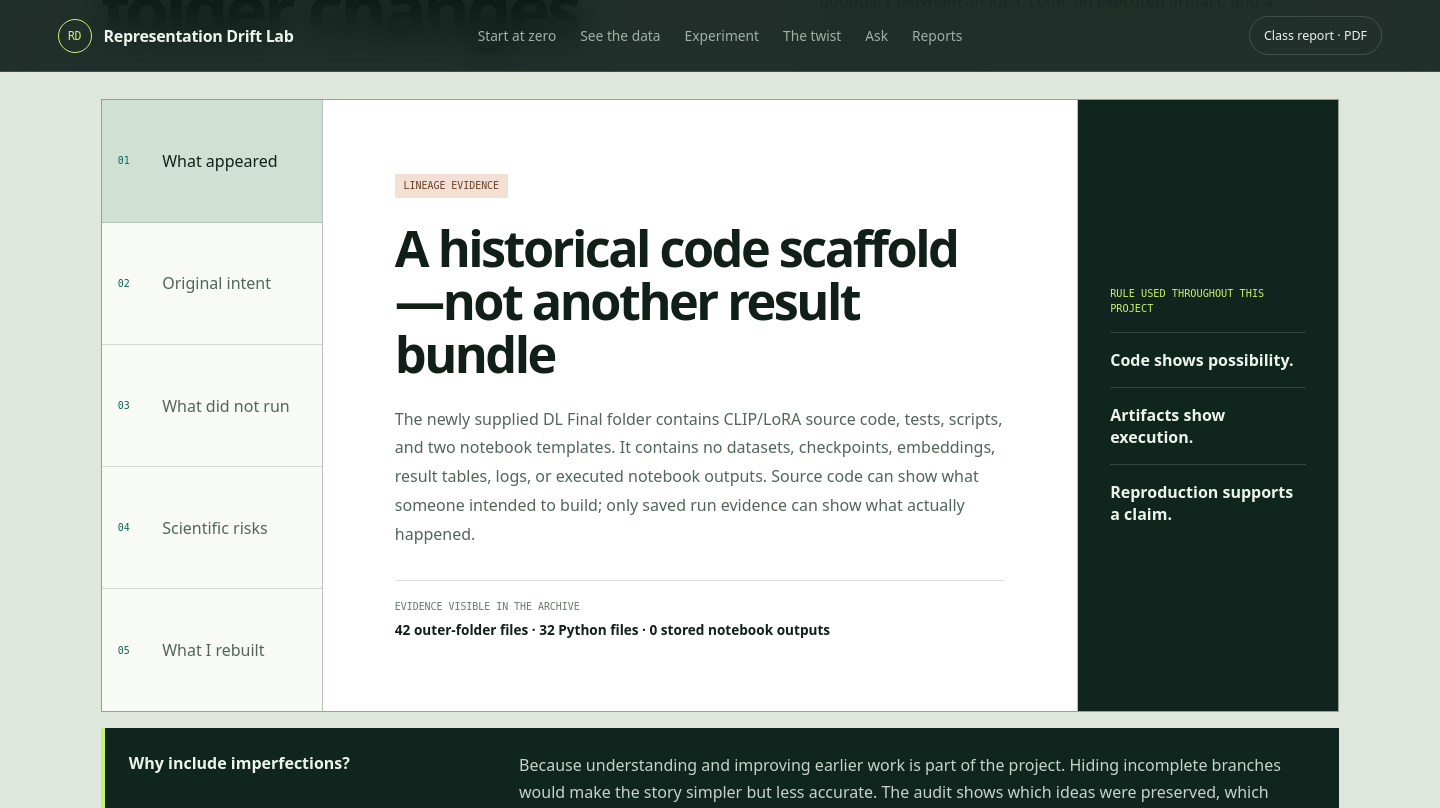
Test case: portfolio visitor flow › explains the recovered source scaffold without presenting it as new results
(page scrolled)
Click the tab "03 What did not run" at x=212, y=406, box [102,345,322,467]
(page scrolled)
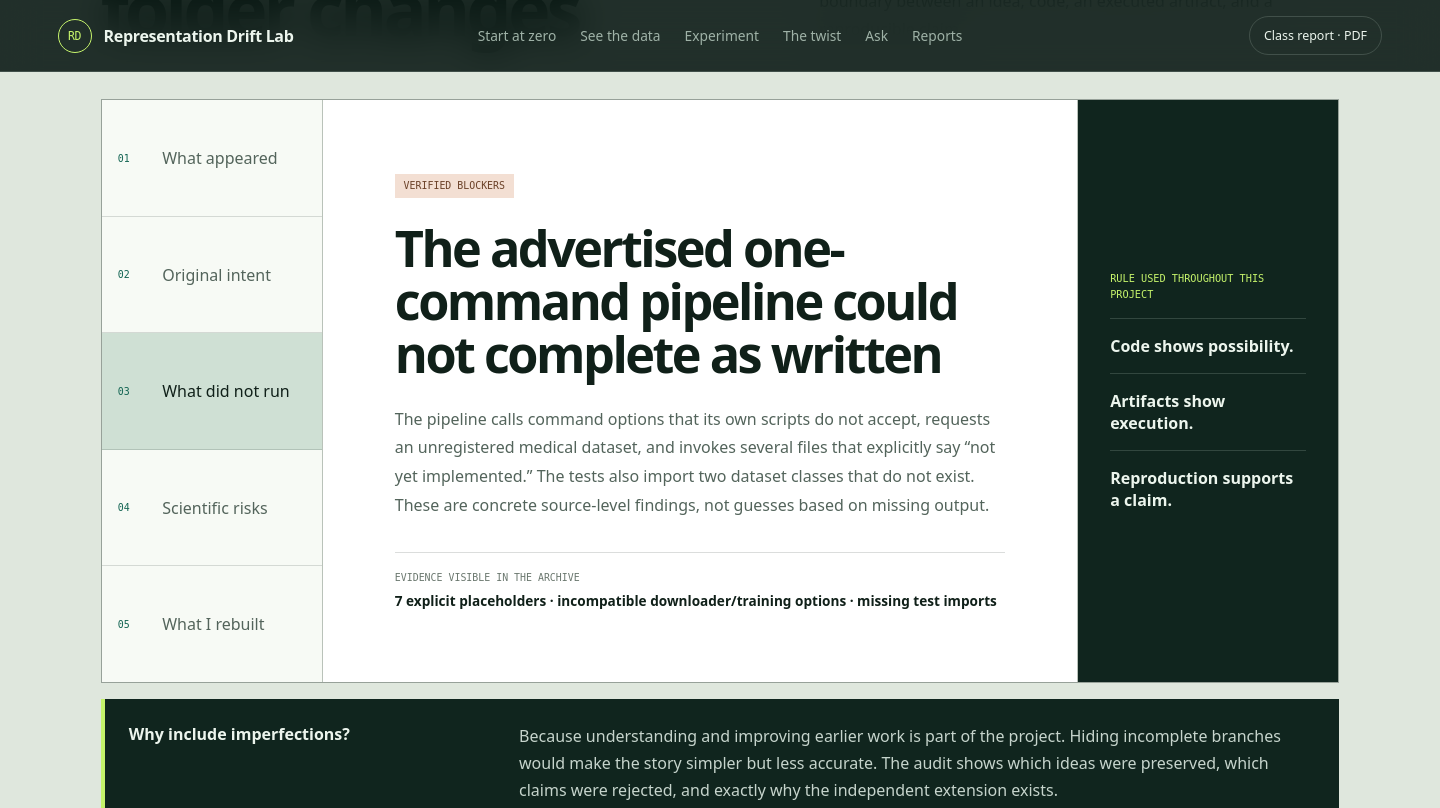
Expected: the heading "could not complete as written" is shown, [395,222,1005,380]
Expected: the text "7 explicit placeholders" is shown, [395,591,997,610]
